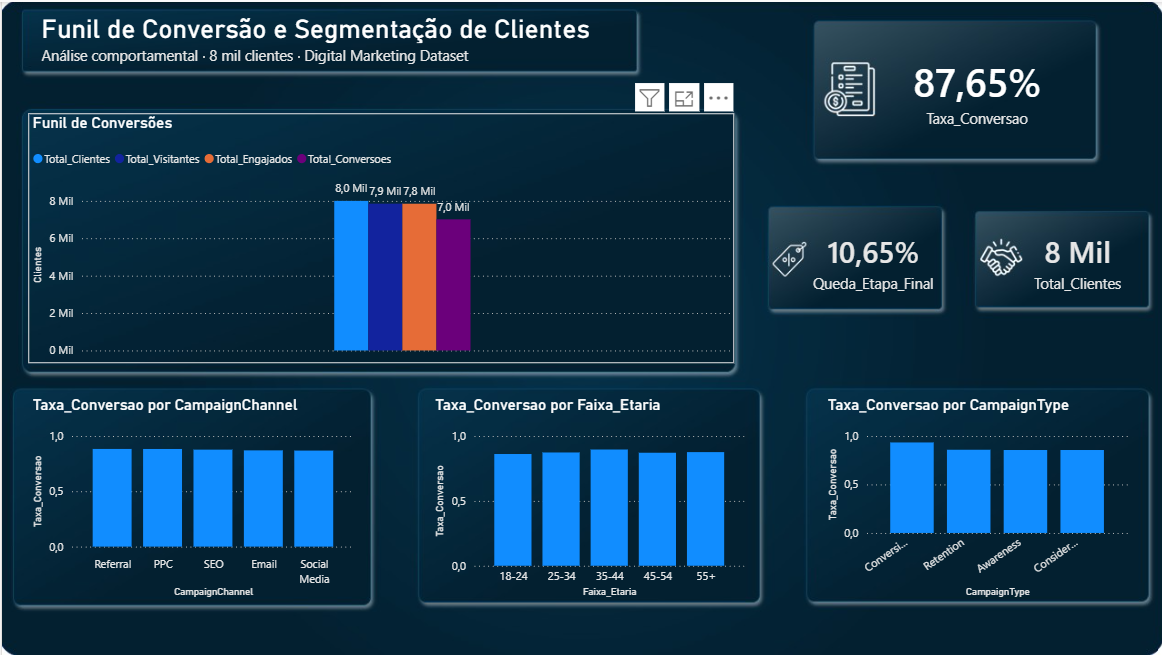

What the dashboard file says about the page in this screenshot:
{"tool":"powerbi","page":{"name":"Página 1","canvas":[1280,720],"ordinal":0},"visuals":[{"type":"clusteredColumnChart","fields":{"Category":["digital_marketing_campaign_dataset.Faixa_Etaria"],"Y":["digital_marketing_campaign_dataset.Taxa_Conversao"]},"box":[470.7,432.2,349.9,226.4],"z":0},{"type":"clusteredColumnChart","fields":{"Category":["digital_marketing_campaign_dataset.CampaignChannel"],"Y":["digital_marketing_campaign_dataset.Taxa_Conversao"]},"box":[28.8,432.2,363.6,226.4],"z":1000},{"type":"clusteredColumnChart","fields":{"Category":["digital_marketing_campaign_dataset.CampaignType"],"Y":["digital_marketing_campaign_dataset.Taxa_Conversao"]},"box":[901.5,432.2,340.3,226.4],"z":2000},{"type":"clusteredColumnChart","title":"Funil de Conversões","fields":{"Y":["digital_marketing_campaign_dataset.Total_Clientes","digital_marketing_campaign_dataset.Total_Visitantes","digital_marketing_campaign_dataset.Total_Engajados","digital_marketing_campaign_dataset.Total_Conversoes"]},"box":[28.8,122.1,775.3,274.4],"z":3000},{"type":"textbox","title":"Funil de Conversão e Segmentação de Clientes","box":[38.4,12.3,658.7,61.7],"z":4000},{"type":"cardVisual","fields":{"Data":["digital_marketing_campaign_dataset.Taxa_Conversao"]},"box":[912.5,12.3,317,171.5],"z":4001},{"type":"cardVisual","fields":{"Data":["digital_marketing_campaign_dataset.Total_Clientes"]},"box":[1092.3,217.9,175.6,133.1],"z":4002},{"type":"cardVisual","fields":{"Data":["digital_marketing_campaign_dataset.Queda_Etapa_Final"]},"box":[853.5,217.9,204.5,133.1],"z":4003}]}

Visuals, with their boxes in screenshot pixels (x1, y1, x2, y2), scaled from the page's 1280x720 canvas onto the 1162x655 screenshot:
clusteredColumnChart - digital_marketing_campaign_dataset.Faixa_Etaria x digital_marketing_campaign_dataset.Taxa_Conversao: l=427, t=393, r=745, b=599
clusteredColumnChart - digital_marketing_campaign_dataset.CampaignChannel x digital_marketing_campaign_dataset.Taxa_Conversao: l=26, t=393, r=356, b=599
clusteredColumnChart - digital_marketing_campaign_dataset.CampaignType x digital_marketing_campaign_dataset.Taxa_Conversao: l=818, t=393, r=1127, b=599
"Funil de Conversões" clusteredColumnChart: l=26, t=111, r=730, b=361
"Funil de Conversão e Segmentação de Clientes" textbox: l=35, t=11, r=633, b=67
cardVisual - digital_marketing_campaign_dataset.Taxa_Conversao: l=828, t=11, r=1116, b=167
cardVisual - digital_marketing_campaign_dataset.Total_Clientes: l=992, t=198, r=1151, b=319
cardVisual - digital_marketing_campaign_dataset.Queda_Etapa_Final: l=775, t=198, r=960, b=319
